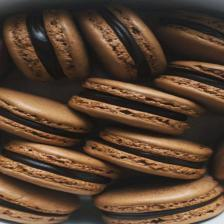brown: (0, 7, 224, 224), (1, 88, 94, 146), (82, 78, 205, 118)
